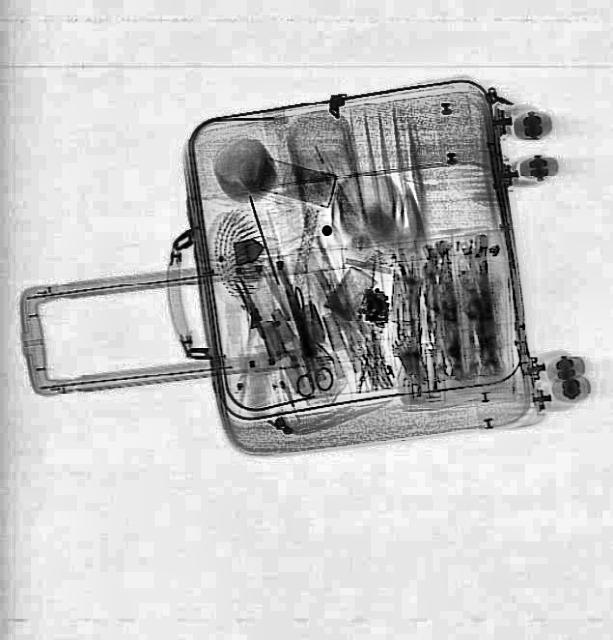Scissors: (273, 284, 337, 398)
